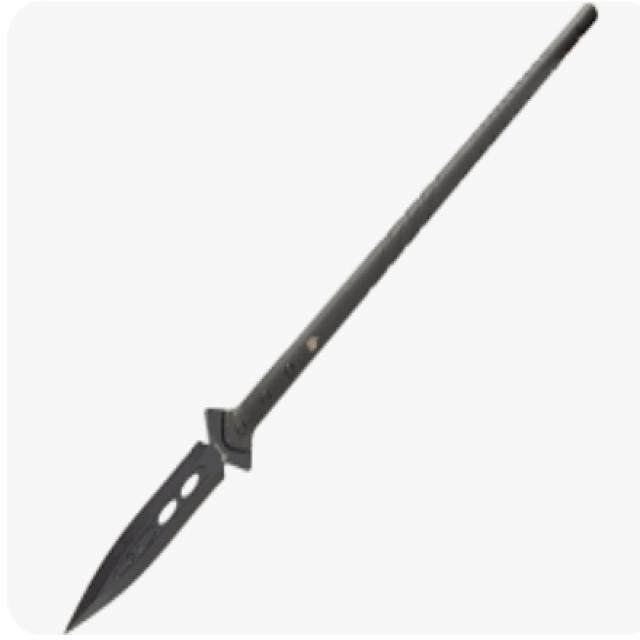spear: (58, 4, 608, 636)
